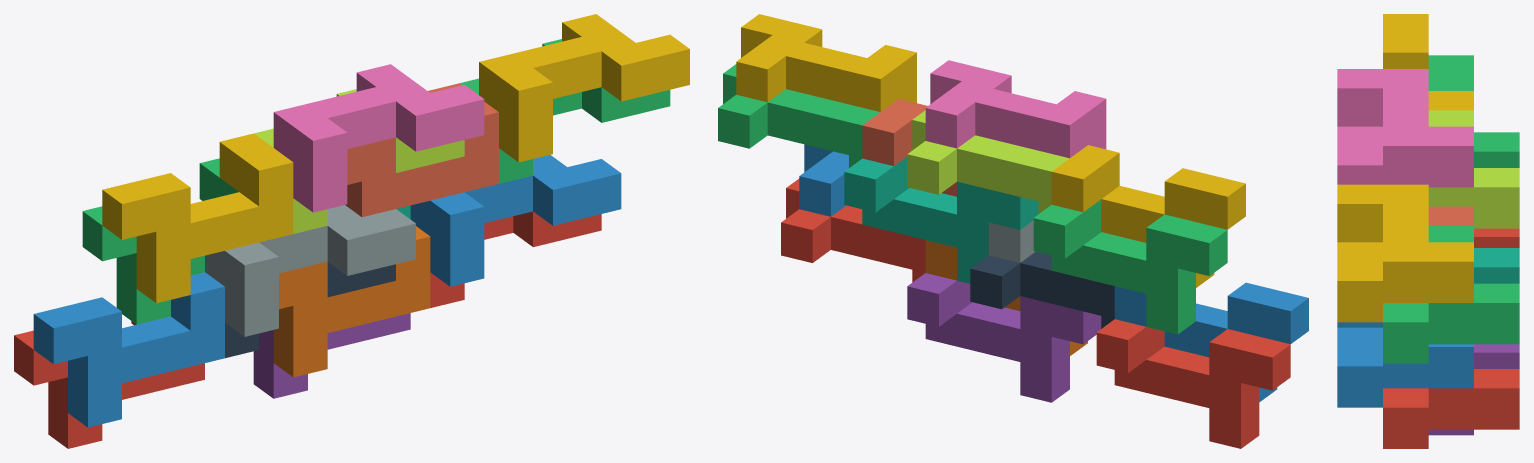
Rendered from tiling.obj.
3 renders of one model, left to right at view 1: azimuth 30°, elevation 25°; view 2: azimuth 150°, elevation 25°; view 3: azimuth 270°, elevation 25°, orthographic. The views are drawn at different scales.
Visible parts, largest first — view 1: copy_1_domain_4, copy_2_domain_4, copy_1_domain_2, copy_2_domain_8, copy_2_domain_6, copy_2_domain_2, copy_1_domain_6, copy_1_domain_8, copy_1_domain_1, copy_1_domain_3, copy_2_domain_7, copy_1_domain_5 (+3 smaller); view 2: copy_1_domain_3, copy_1_domain_1, copy_1_domain_5, copy_2_domain_4, copy_2_domain_8, copy_1_domain_7, copy_1_domain_4, copy_2_domain_3, copy_2_domain_7, copy_1_domain_2, copy_2_domain_5, copy_2_domain_1 (+4 smaller); view 3: copy_2_domain_8, copy_2_domain_4, copy_2_domain_7, copy_2_domain_5, copy_2_domain_6, copy_2_domain_3, copy_1_domain_4, copy_1_domain_3, copy_1_domain_7, copy_1_domain_5, copy_1_domain_1, copy_1_domain_8.
Part boxes in pixels (box(x1,y1,x2,y2)): copy_1_domain_4: box(102, 133, 293, 303); copy_2_domain_4: box(273, 64, 484, 212); copy_1_domain_2: box(33, 272, 224, 427); copy_2_domain_8: box(479, 14, 689, 162); copy_2_domain_6: box(410, 155, 621, 286); copy_2_domain_2: box(205, 205, 415, 336); copy_1_domain_6: box(273, 226, 430, 377); copy_1_domain_8: box(345, 83, 498, 217); copy_1_domain_1: box(14, 321, 204, 448); copy_1_domain_3: box(82, 158, 238, 324); copy_2_domain_7: box(459, 39, 670, 183); copy_1_domain_5: box(253, 313, 410, 398); copy_1_domain_3: box(1033, 199, 1227, 334); copy_1_domain_1: box(1096, 319, 1290, 448); copy_1_domain_5: box(907, 273, 1101, 402); copy_2_domain_4: box(925, 60, 1106, 158); copy_2_domain_8: box(736, 14, 916, 111); copy_1_domain_7: box(844, 157, 1038, 283); copy_1_domain_4: box(1051, 145, 1245, 287); copy_2_domain_3: box(907, 110, 1069, 213); copy_2_domain_7: box(718, 64, 880, 167); copy_1_domain_2: box(1114, 282, 1308, 402); copy_2_domain_5: box(781, 178, 925, 282); copy_2_domain_1: box(970, 251, 1114, 328); copy_2_domain_8: box(1337, 184, 1473, 322); copy_2_domain_4: box(1337, 69, 1473, 187); copy_2_domain_7: box(1383, 226, 1519, 363); copy_2_domain_5: box(1383, 369, 1519, 448); copy_2_domain_6: box(1337, 322, 1473, 407); copy_2_domain_3: box(1428, 110, 1519, 228); copy_1_domain_4: box(1383, 14, 1473, 110); copy_1_domain_3: box(1428, 55, 1519, 167); copy_1_domain_7: box(1474, 248, 1519, 283); copy_1_domain_5: box(1428, 344, 1519, 435); copy_1_domain_1: box(1474, 228, 1519, 247); copy_1_domain_8: box(1428, 206, 1473, 225).
Bounding box in the file's own units: 18 × 8 × 4.
